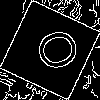O: (25, 25, 82, 78)
